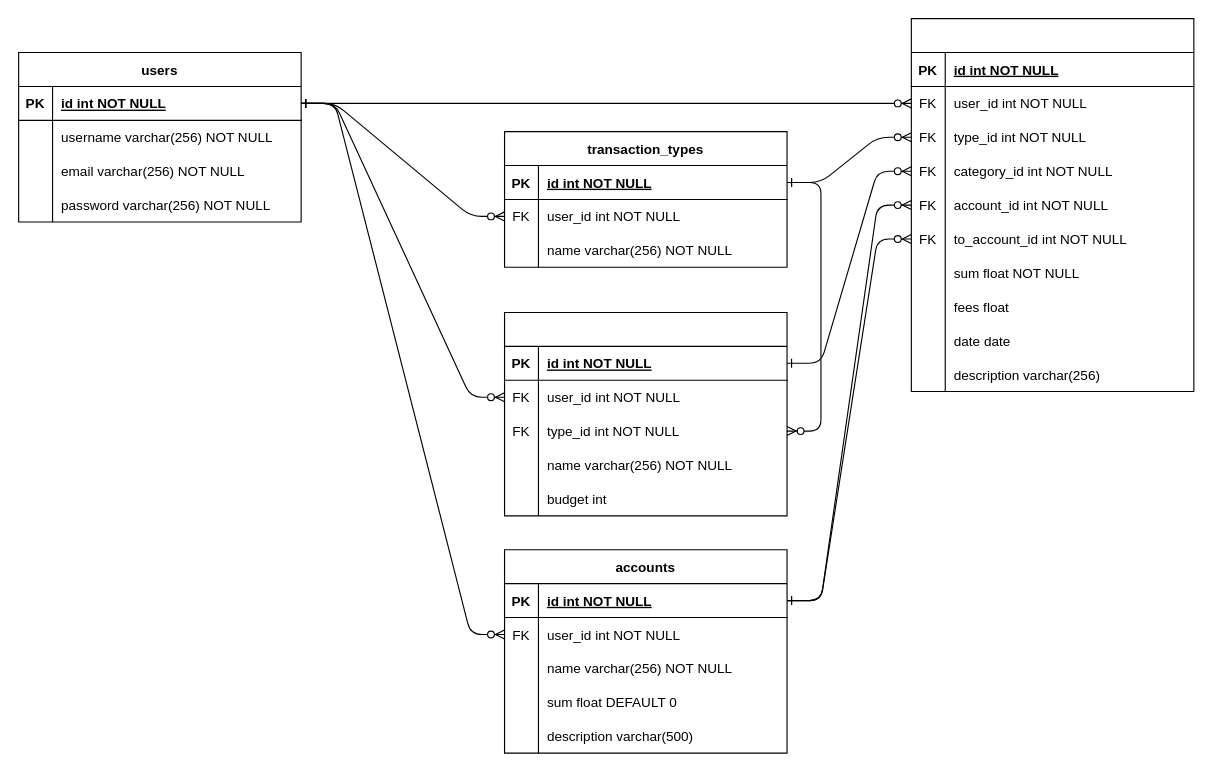
Some shapes in this 1212 by 772 pixel diagram are drawn without their labels. The box of each missing label's shape, as (x1, y1, x2, y2) in pixels:
transactions: (910, 18, 1194, 392)
transactions_categories: (503, 311, 787, 516)
